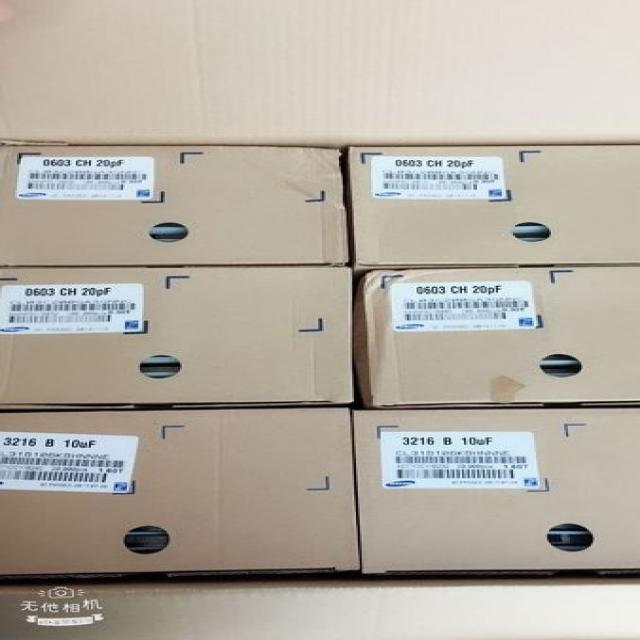box: (0, 406, 361, 577), (0, 267, 359, 410), (354, 410, 638, 570), (0, 140, 355, 267), (360, 265, 638, 407), (343, 140, 638, 268)
